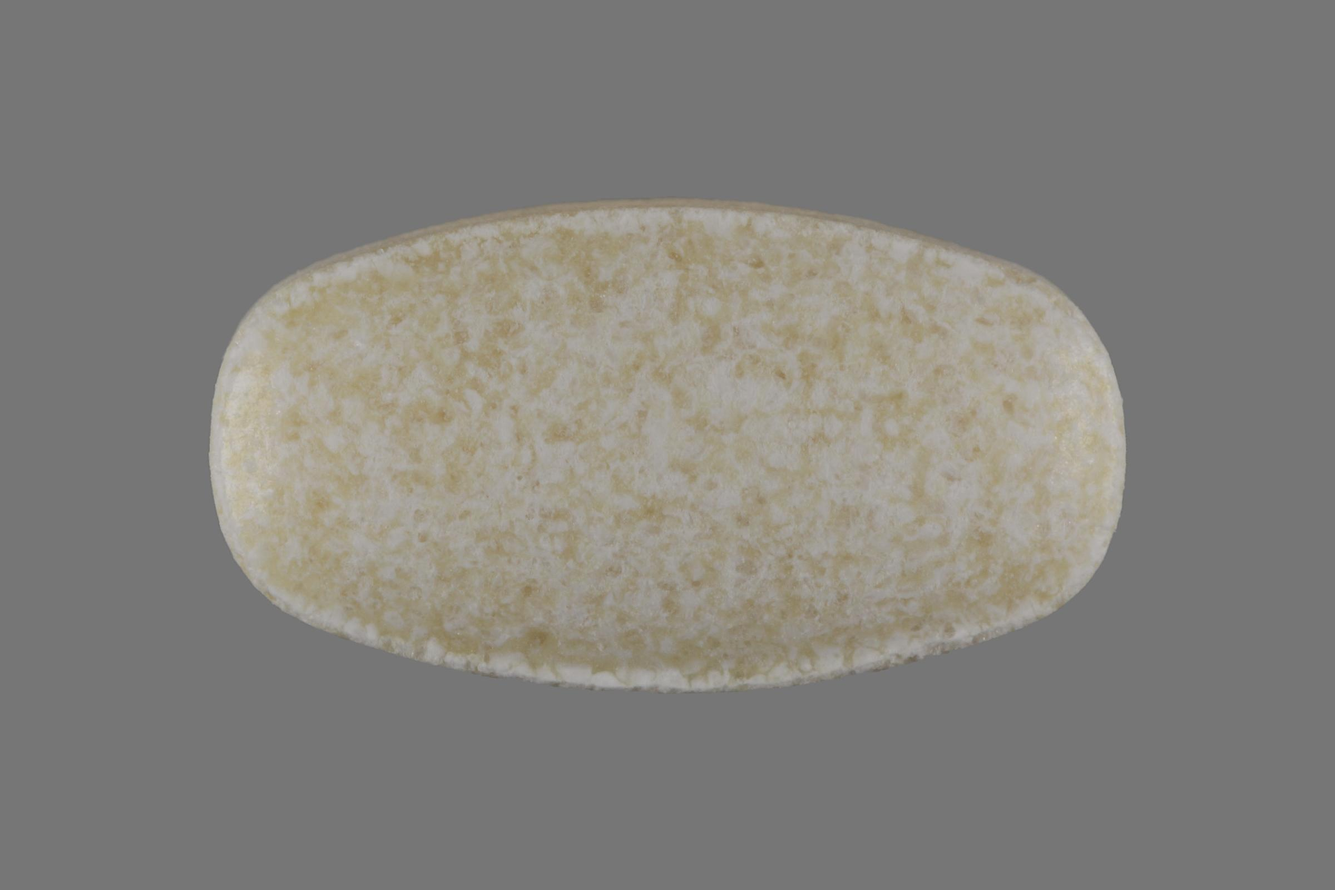Pill: (192, 186, 1138, 706)
